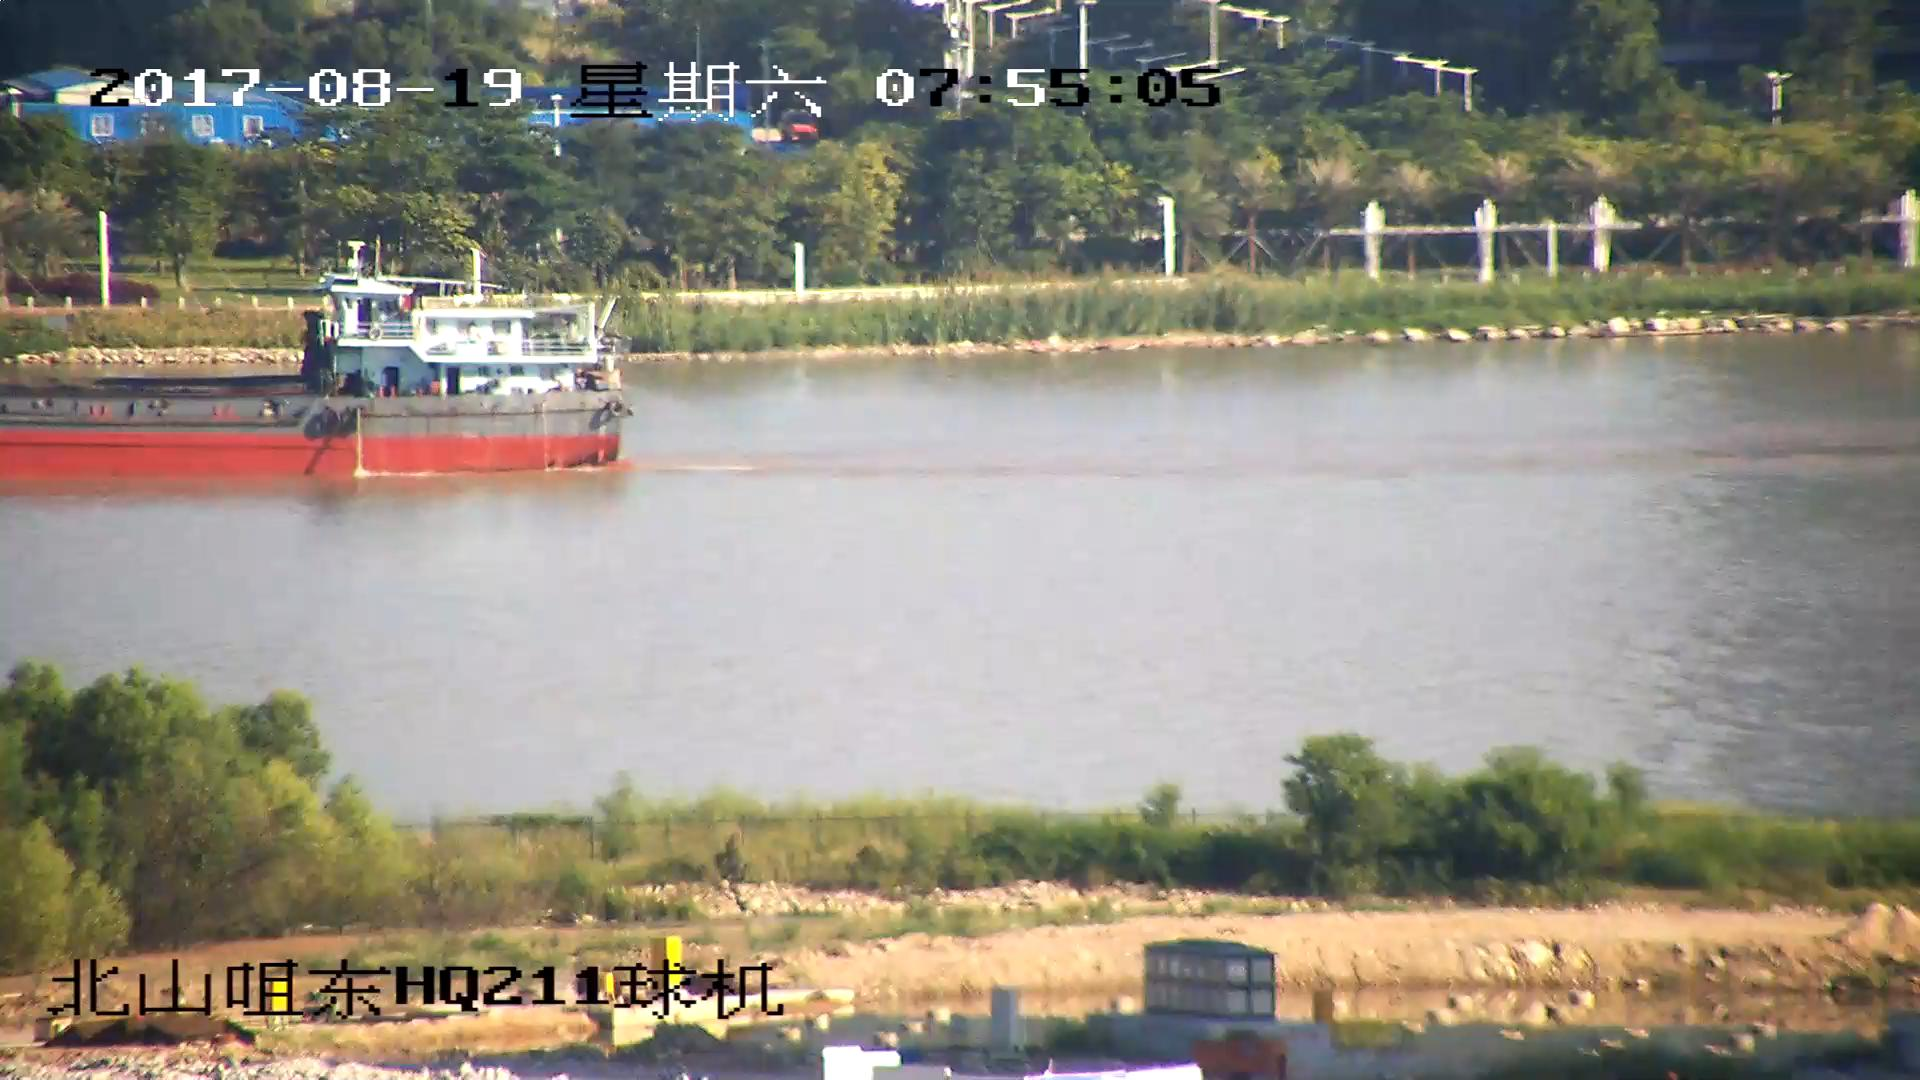bulk cargo carrier: (1, 255, 630, 478)
